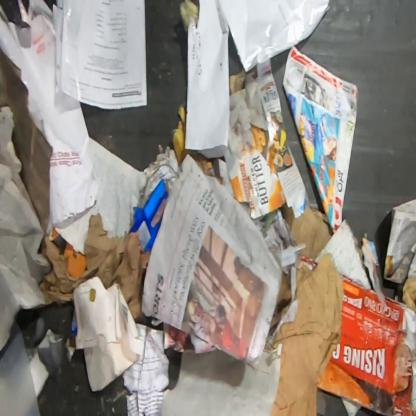cardboard: (316, 272, 416, 416), (224, 58, 310, 220), (0, 46, 53, 232), (128, 178, 170, 255), (282, 203, 334, 260), (296, 252, 319, 272)
soft_plastic: (61, 0, 148, 110), (218, 0, 330, 73), (0, 319, 42, 415)
